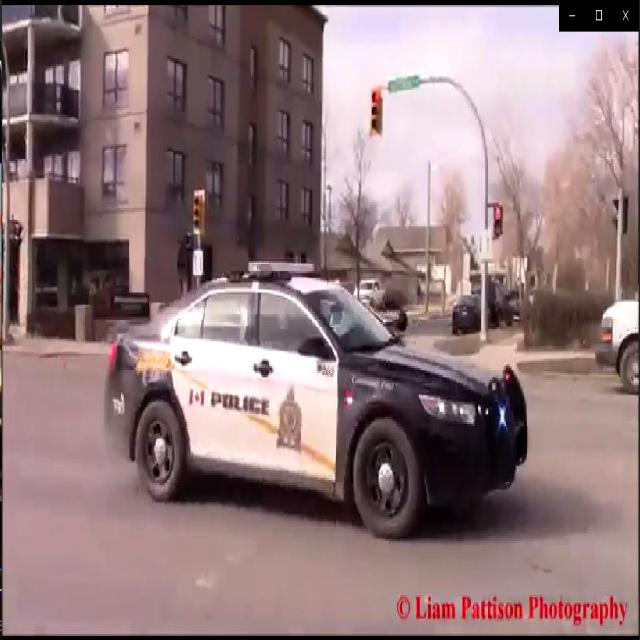emergency: (103, 256, 531, 547)
